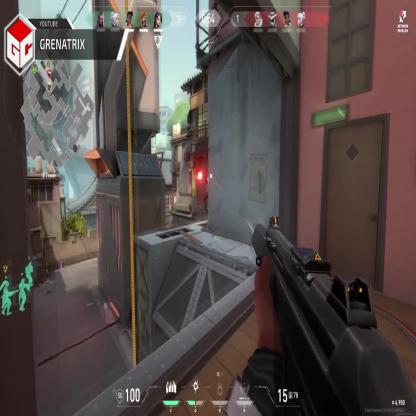enemy: (202, 167, 216, 218)
enemy_head: (205, 171, 210, 182)
